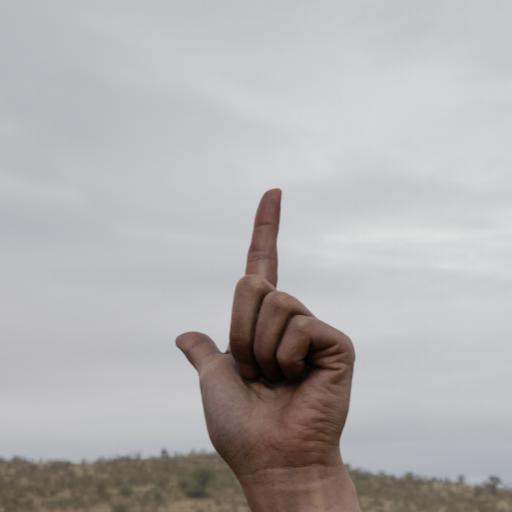L: (172, 178, 362, 463)
